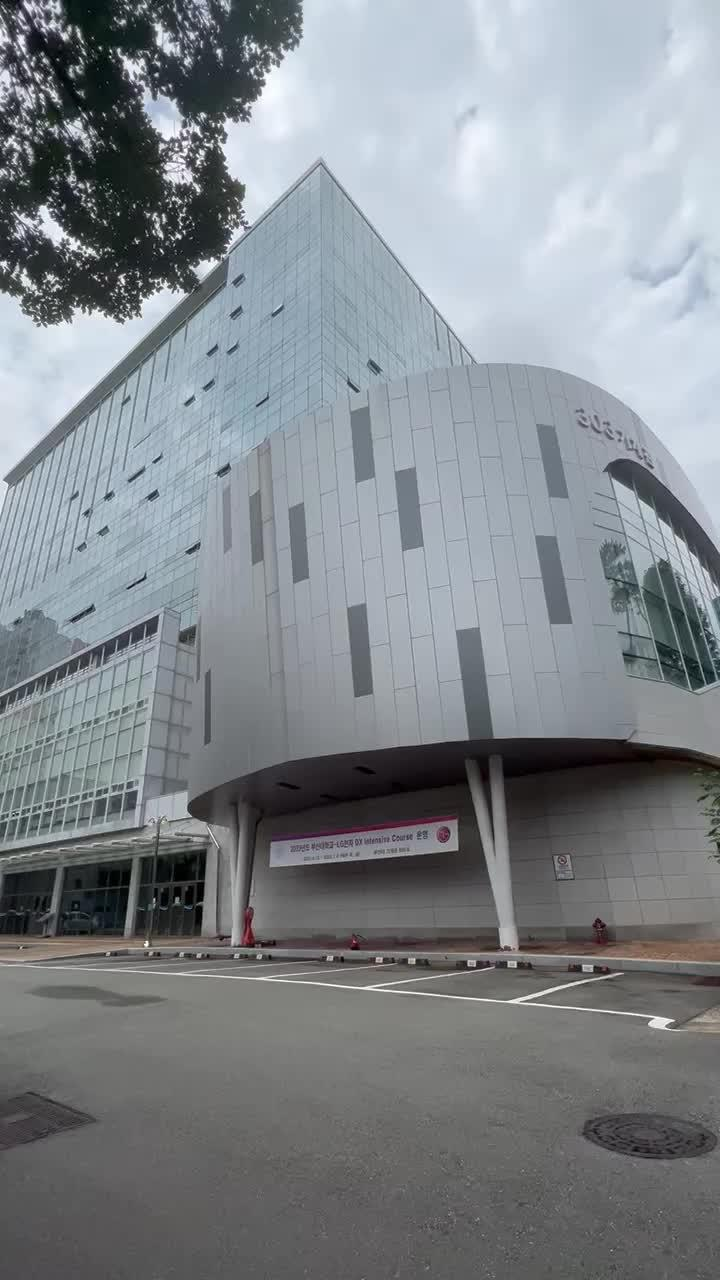building: (24, 348, 626, 788)
